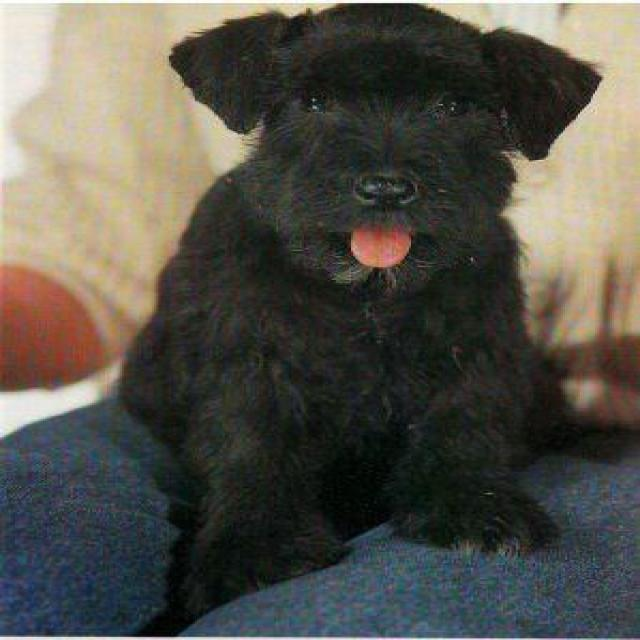standard_schnauzer: (120, 2, 603, 627)
